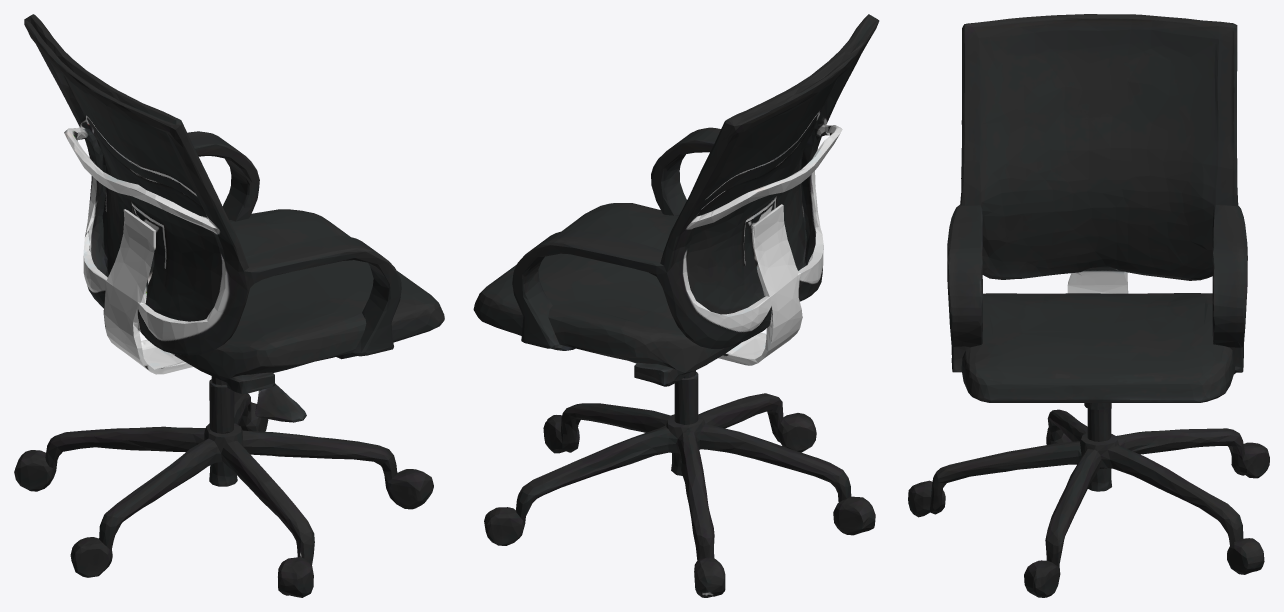
File: computer_chair_43.glb
3 renders of one model, left to right at view 1: azimuth 30°, elevation 25°; view 2: azimuth 150°, elevation 25°; view 3: azimuth 270°, elevation 25°, orthographic. The views are drawn at different scales.
Visible parts, largest first — view 1: computer_chair_43.obj; view 2: computer_chair_43.obj; view 3: computer_chair_43.obj.
Part boxes in pixels (x1,y1,x2,y2): computer_chair_43.obj: (14,14,444,597); computer_chair_43.obj: (473,14,879,597); computer_chair_43.obj: (908,14,1269,597).
Size of the model in its own units: 0.7567 by 1 by 0.7334.
Materials: 1 (1 with a texture image).
